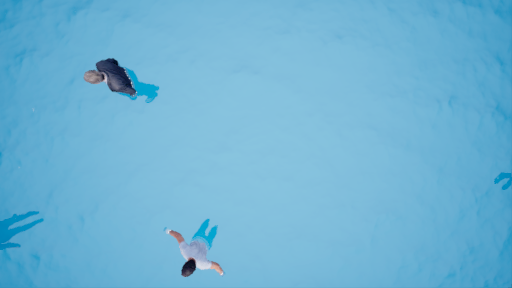person: (77, 51, 171, 111), (159, 212, 231, 282)
